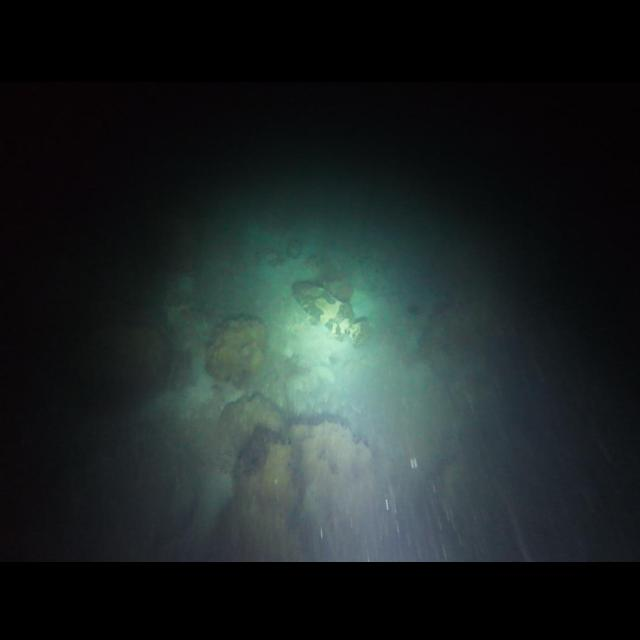Groupers: (292, 281, 371, 349)
